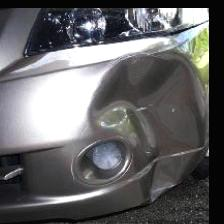bumper_dent: (87, 44, 207, 200)
